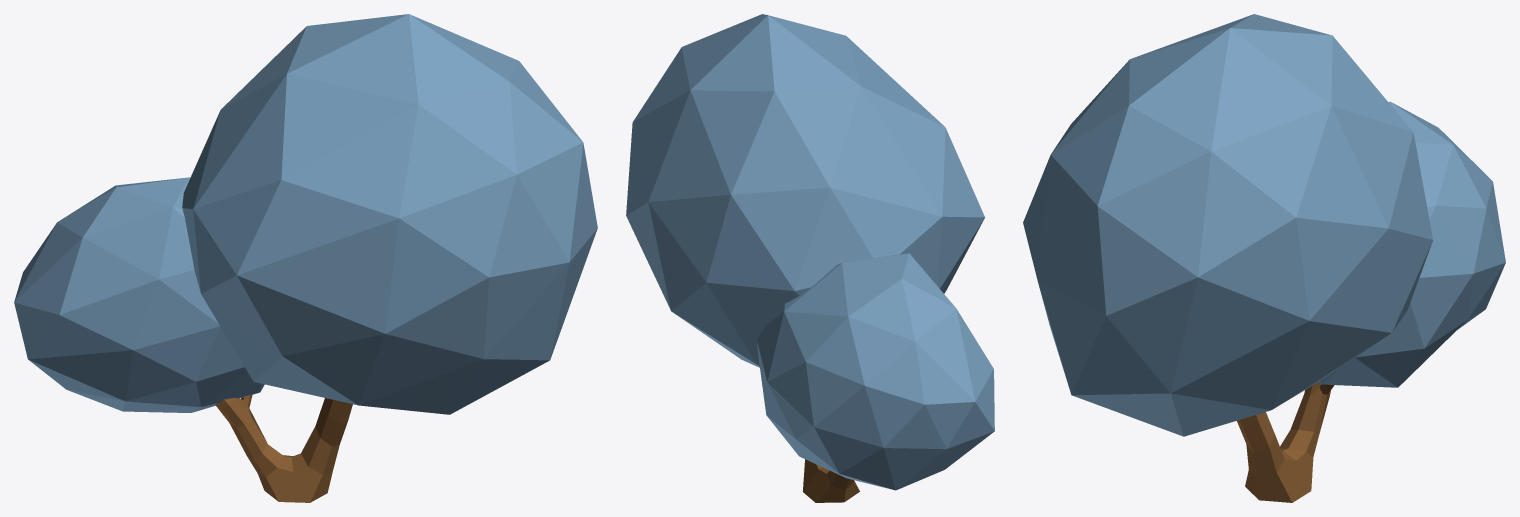
Rendered from Bush.fbx.
The picture shows the model from 3 angles, left to right: view 1: azimuth 30°, elevation 25°; view 2: azimuth 150°, elevation 25°; view 3: azimuth 270°, elevation 25°; orthographic projection. The views are drawn at different scales.
Visible parts, largest first — view 1: Circle.001; view 2: Circle.001; view 3: Circle.001.
Part boxes in pixels (x1,y1,x2,y2): Circle.001: (14, 14, 597, 502); Circle.001: (626, 14, 994, 502); Circle.001: (1023, 14, 1505, 502).
Size of the model in its own units: 659 by 649 by 557.
